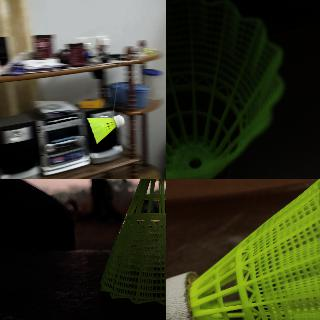shuttlecock: (166, 179, 319, 319), (166, 0, 285, 178), (97, 179, 165, 306), (86, 115, 124, 143)
